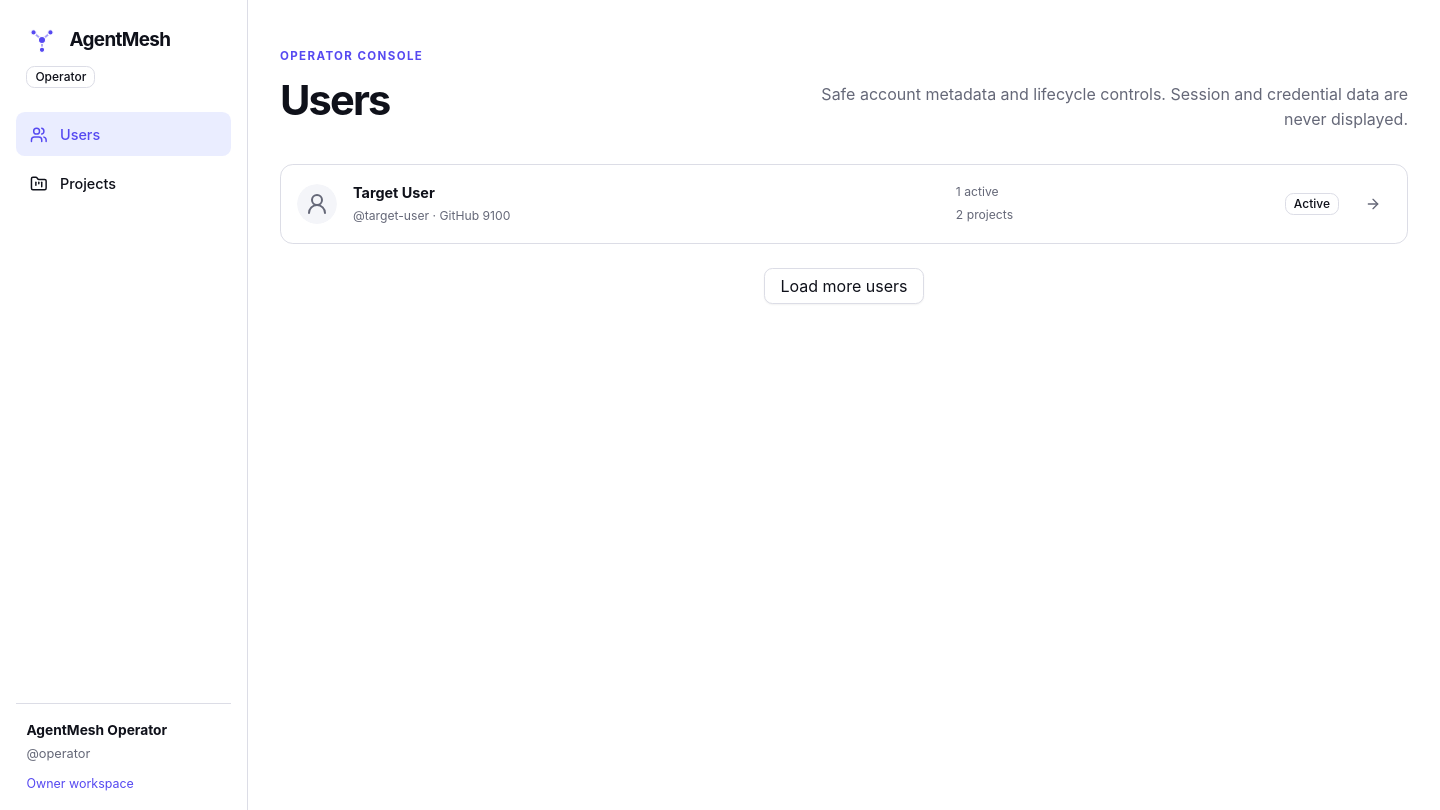
Test: AgentMesh operator UI › provides operator navigation, paginates users, and opens safe user metadata
Check: the heading "Users" is shown, box [280, 75, 389, 125]
Check: the text "Target User" is shown, box [353, 184, 435, 201]
Click the button "Load more users" at (844, 286), box [764, 268, 924, 304]
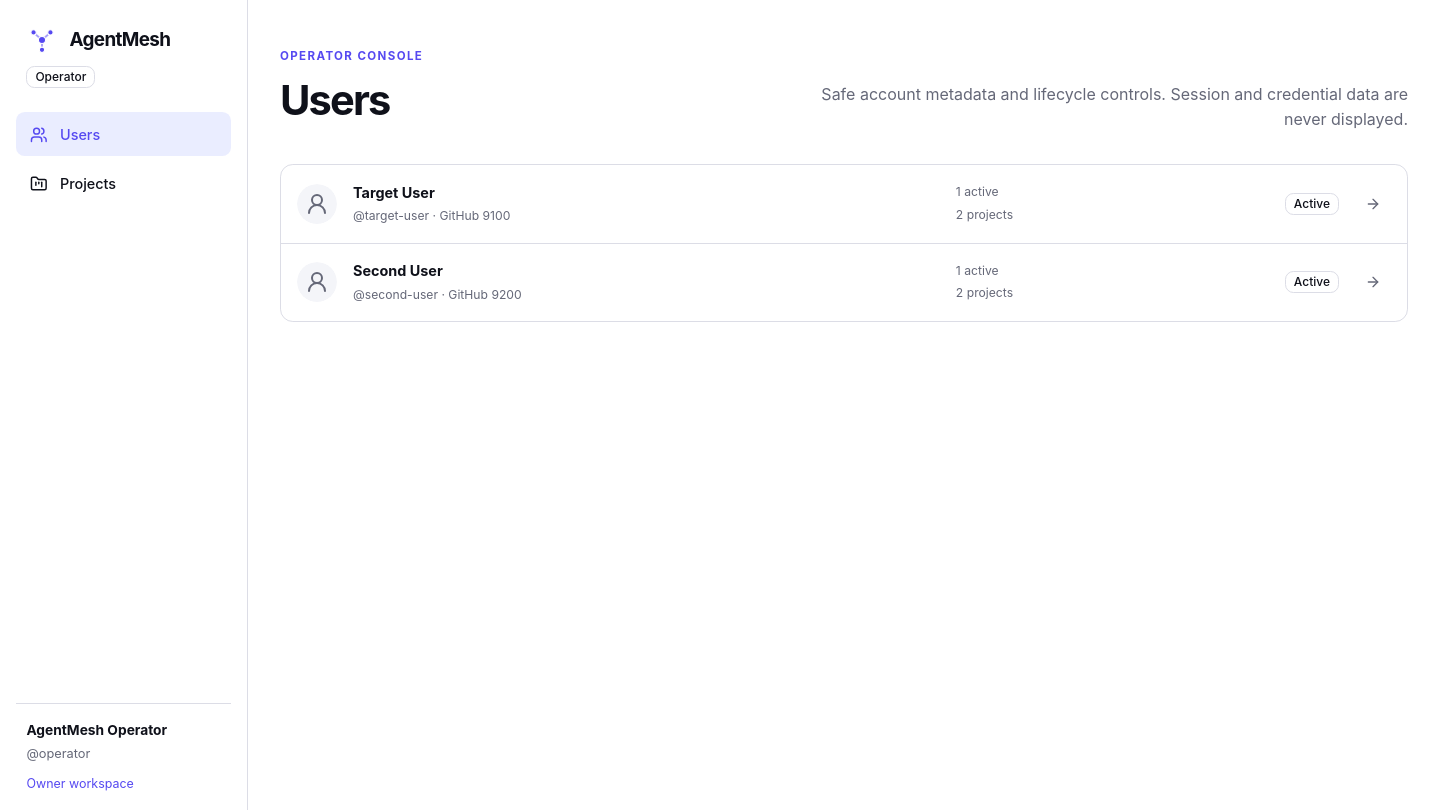
Check: the text "Second User" is shown, box [353, 262, 443, 279]
Click the link named "View Target User" at (1373, 204), box [1365, 196, 1381, 212]
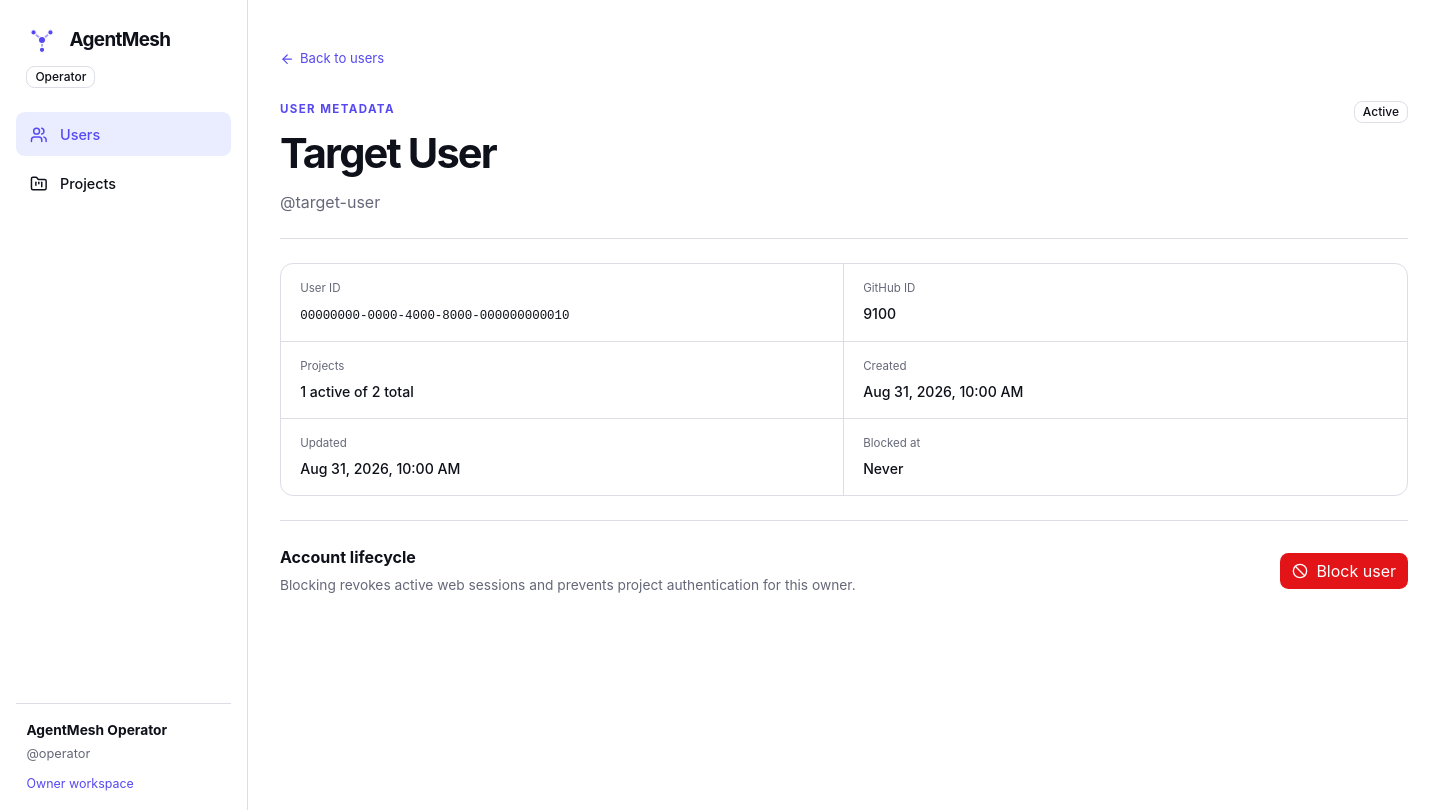
Check: the text "@target-user" is shown, box [280, 192, 380, 212]
Check: the heading "Target User" is shown, box [280, 122, 496, 184]
Check: the text "1 active of 2 total" is shown, box [300, 383, 414, 400]
